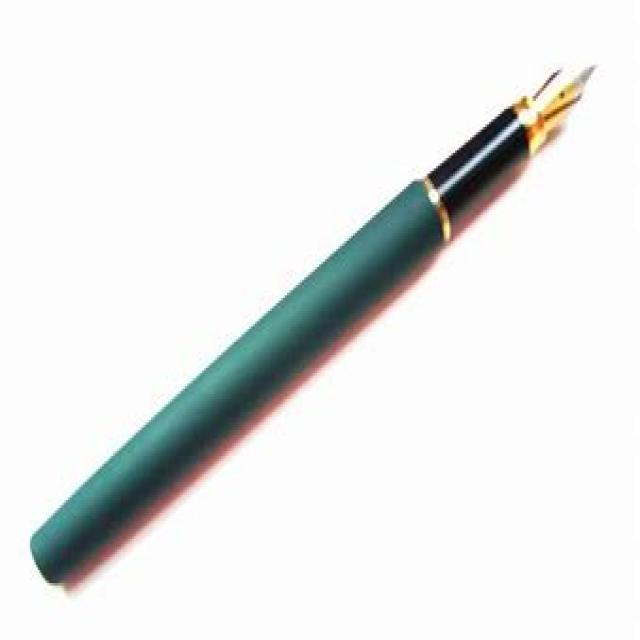pen: (29, 58, 598, 592)
